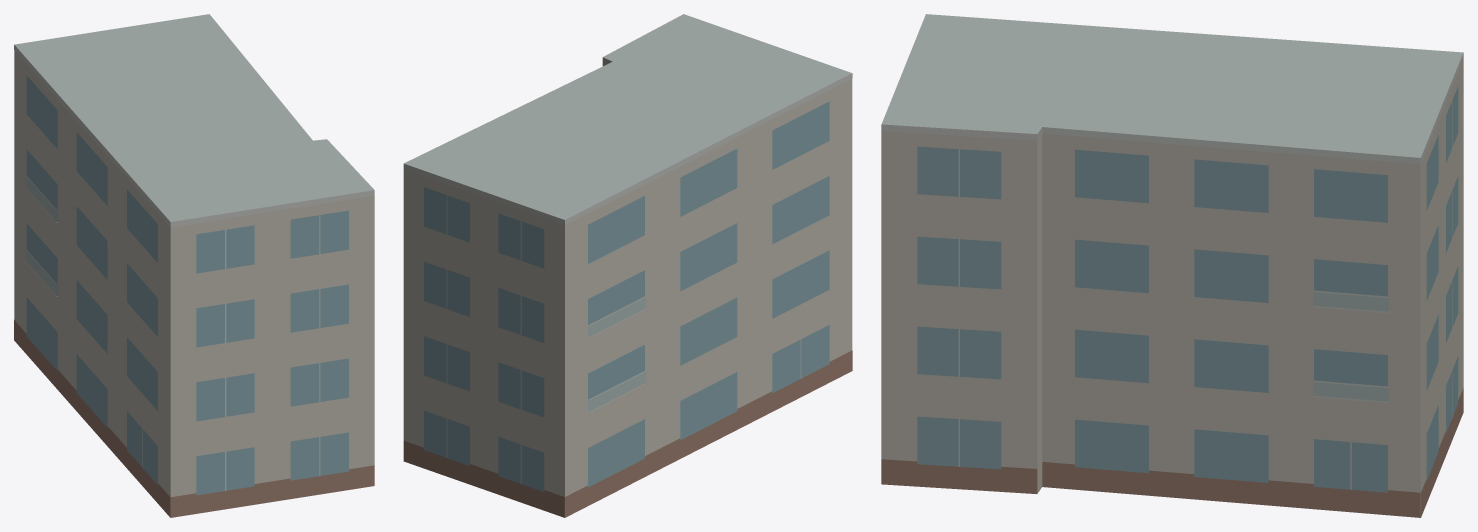
The model's file is survey-upis-32709484.glb.
3 views of the same model, side by side, from view 1: azimuth 30°, elevation 25°; view 2: azimuth 150°, elevation 25°; view 3: azimuth 270°, elevation 25° (orthographic). The views are drawn at different scales.
Parts seen in each view (by area): view 1: survey-upis-32709484.tmp; view 2: survey-upis-32709484.tmp; view 3: survey-upis-32709484.tmp.
Boxes of the visible parts, x1,y1,x2,y2 form: survey-upis-32709484.tmp: (14, 14, 374, 517); survey-upis-32709484.tmp: (403, 14, 852, 517); survey-upis-32709484.tmp: (881, 14, 1463, 517).
Bounding box in the file's own units: 11.67 × 13.6 × 19.94.
